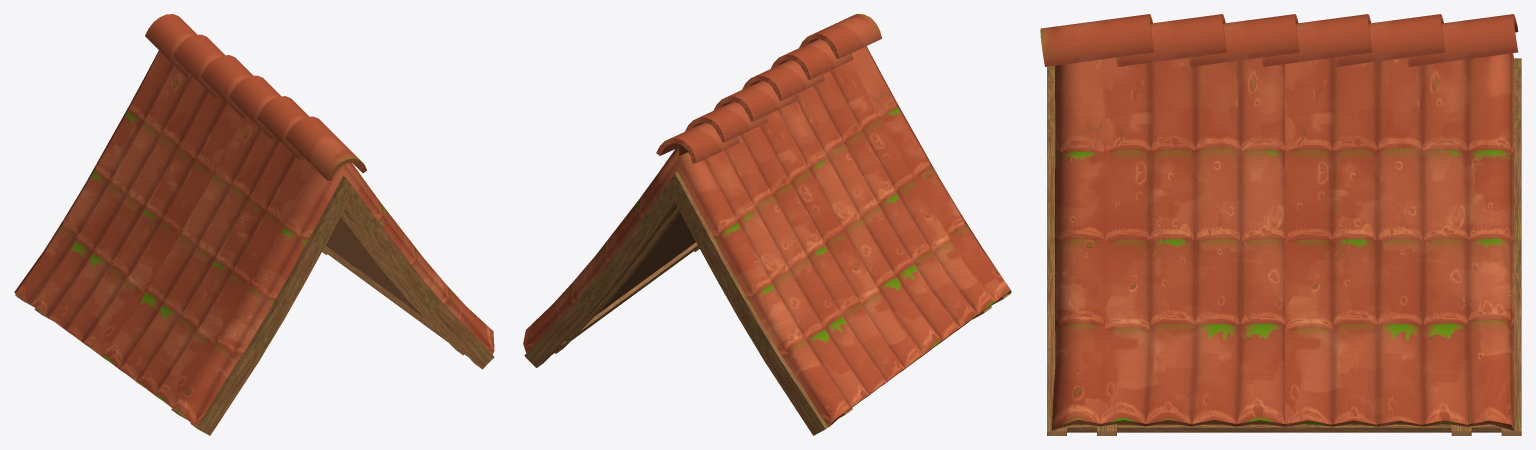
File: cottage-roof.glb
3 renders of one model, left to right at view 1: azimuth 30°, elevation 25°; view 2: azimuth 150°, elevation 25°; view 3: azimuth 270°, elevation 25°, orthographic. The views are drawn at different scales.
Parts seen in each view (by area): view 1: Roof_RoundTiles_4x4; view 2: Roof_RoundTiles_4x4; view 3: Roof_RoundTiles_4x4.
Part boxes in pixels (x1,y1,x2,y2): Roof_RoundTiles_4x4: (14, 14, 494, 435); Roof_RoundTiles_4x4: (523, 14, 1011, 435); Roof_RoundTiles_4x4: (1040, 14, 1521, 435).
Size of the model in its own units: 5.51 by 4.25 by 5.56.
Materials: 2 (2 with a texture image).
